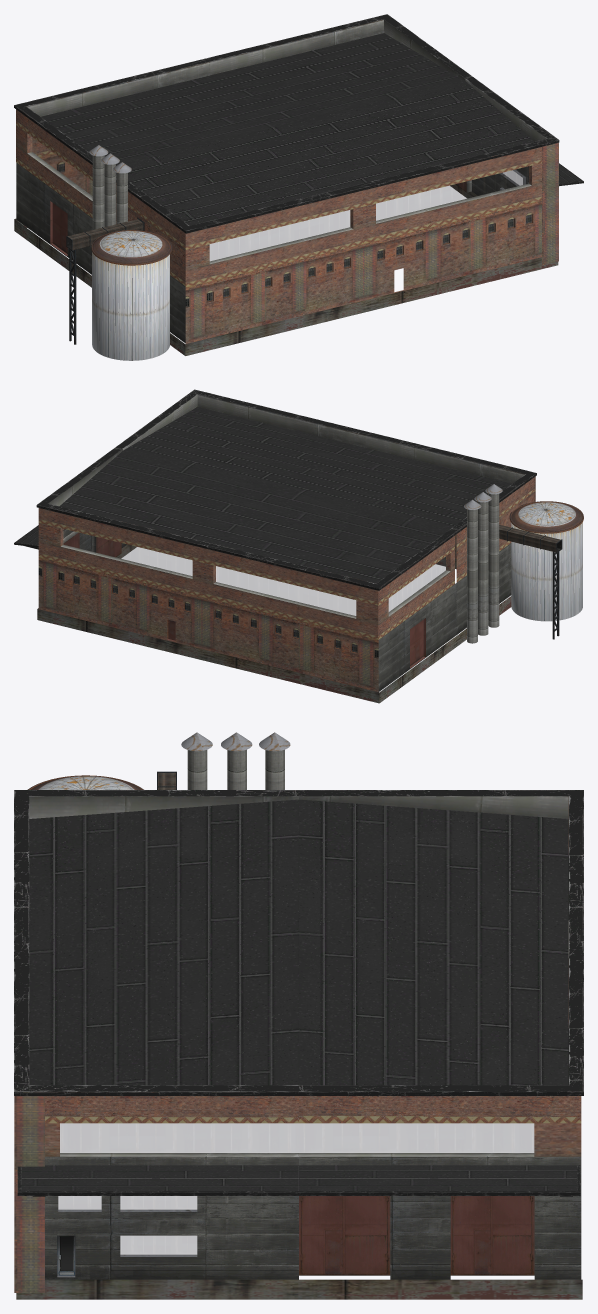
The model's file is factory_raw.glb.
The picture shows the model from 3 angles, top to bottom: view 1: azimuth 30°, elevation 25°; view 2: azimuth 150°, elevation 25°; view 3: azimuth 270°, elevation 25°; orthographic projection. The views are drawn at different scales.
Visible parts, largest first — view 1: LOD0; view 2: LOD0; view 3: LOD0.
Part boxes in pixels (bbox=[...]): LOD0: bbox=[14, 14, 583, 360]; LOD0: bbox=[14, 389, 583, 703]; LOD0: bbox=[14, 732, 583, 1299].
Size of what is drawn, in the model's own units: 56.99 by 18.52 by 36.15.
Materials: 2 (2 with a texture image).
